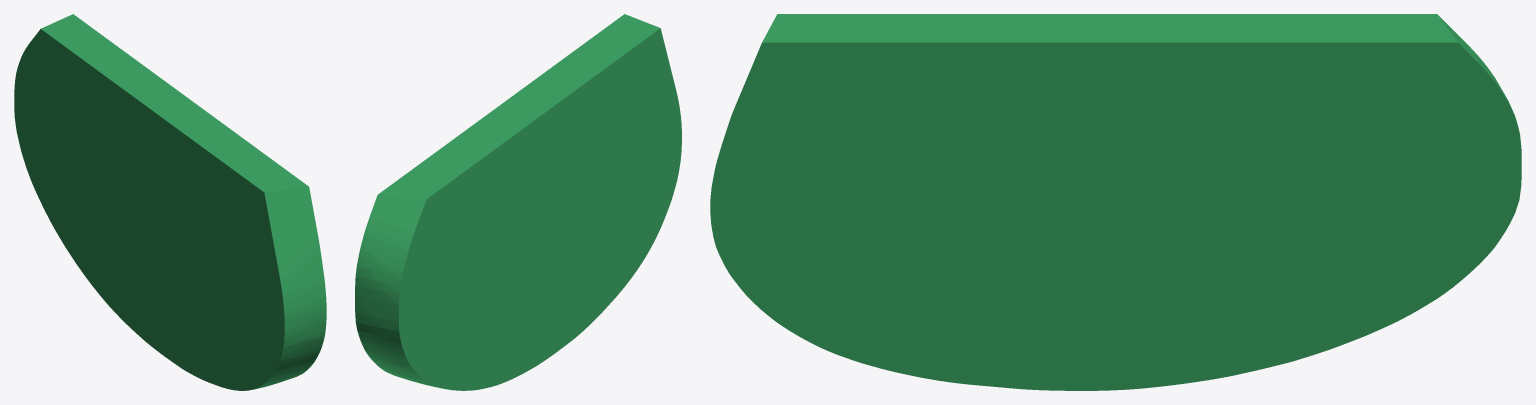
The model's file is convex_piece_10.obj.
3 renders of one model, left to right at view 1: azimuth 30°, elevation 25°; view 2: azimuth 150°, elevation 25°; view 3: azimuth 270°, elevation 25°, orthographic. The views are drawn at different scales.
Bounding box in the file's own units: 0.0059 × 0.0338 × 0.071.
